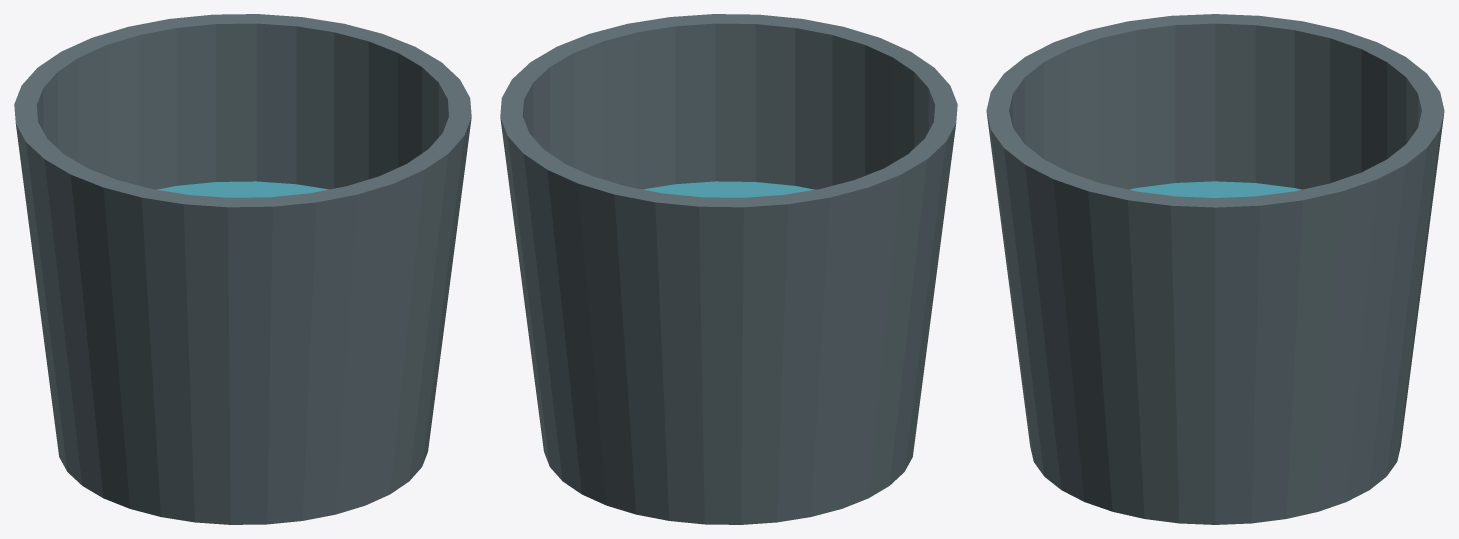
Rendered from bucket.fbx.
3 renders of one model, left to right at view 1: azimuth 30°, elevation 25°; view 2: azimuth 150°, elevation 25°; view 3: azimuth 270°, elevation 25°, orthographic.
Parts seen in each view (by area): view 1: Walec.001; view 2: Walec.001; view 3: Walec.001.
Boxes of the visible parts, x1,y1,x2,y2 form: Walec.001: (14, 14, 471, 524); Walec.001: (500, 14, 957, 524); Walec.001: (986, 14, 1444, 524).
Size of the model in its own units: 912 by 738 by 912.
